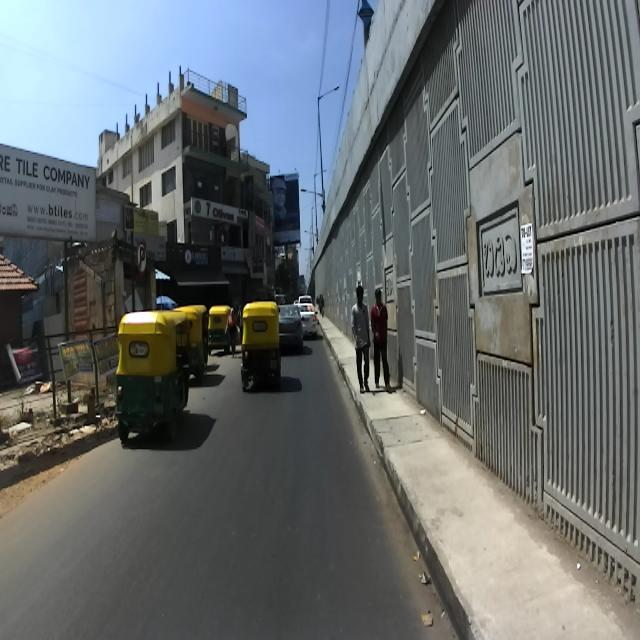auto ahead at: (114, 306, 196, 448), (236, 298, 283, 396)
person ahead at: (349, 278, 373, 395)
